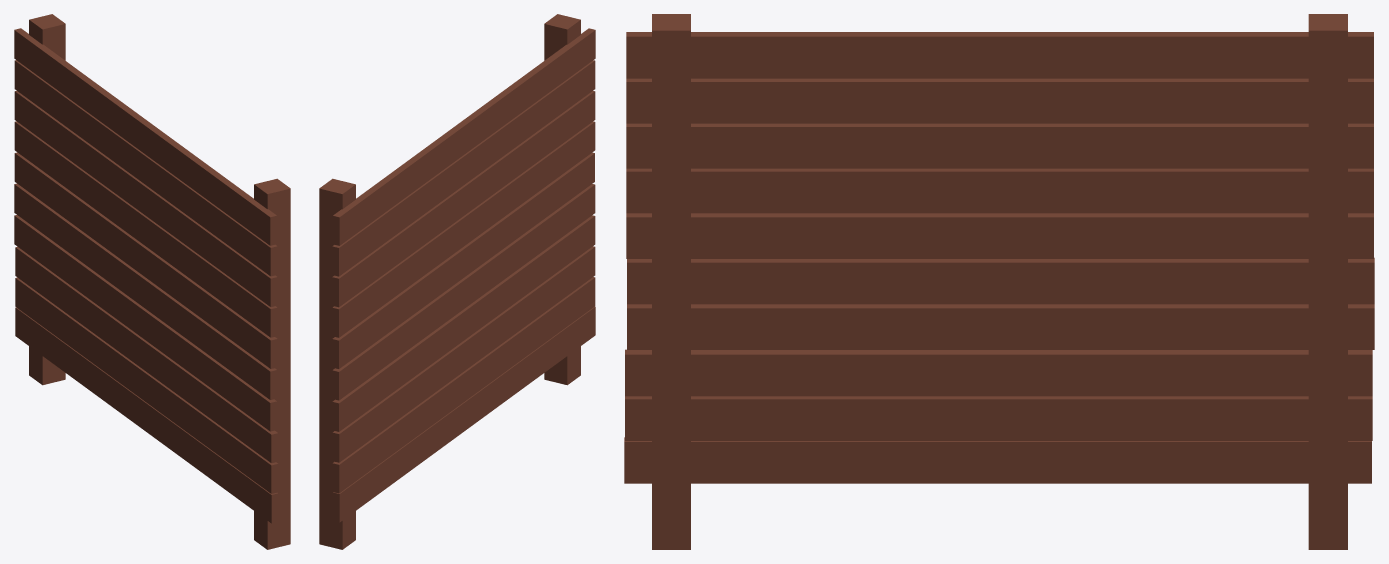
File: Plank.fbx
3 renders of one model, left to right at view 1: azimuth 30°, elevation 25°; view 2: azimuth 150°, elevation 25°; view 3: azimuth 270°, elevation 25°, orthographic. The views are drawn at different scales.
Parts seen in each view (by area): view 1: BigPlank; view 2: BigPlank; view 3: BigPlank.
Boxes of the visible parts, <box> form: BigPlank: <box>14,14,290,549</box>; BigPlank: <box>319,14,595,549</box>; BigPlank: <box>624,14,1374,549</box>.
Size of the model in its own units: 69.1 by 802 by 1051.
